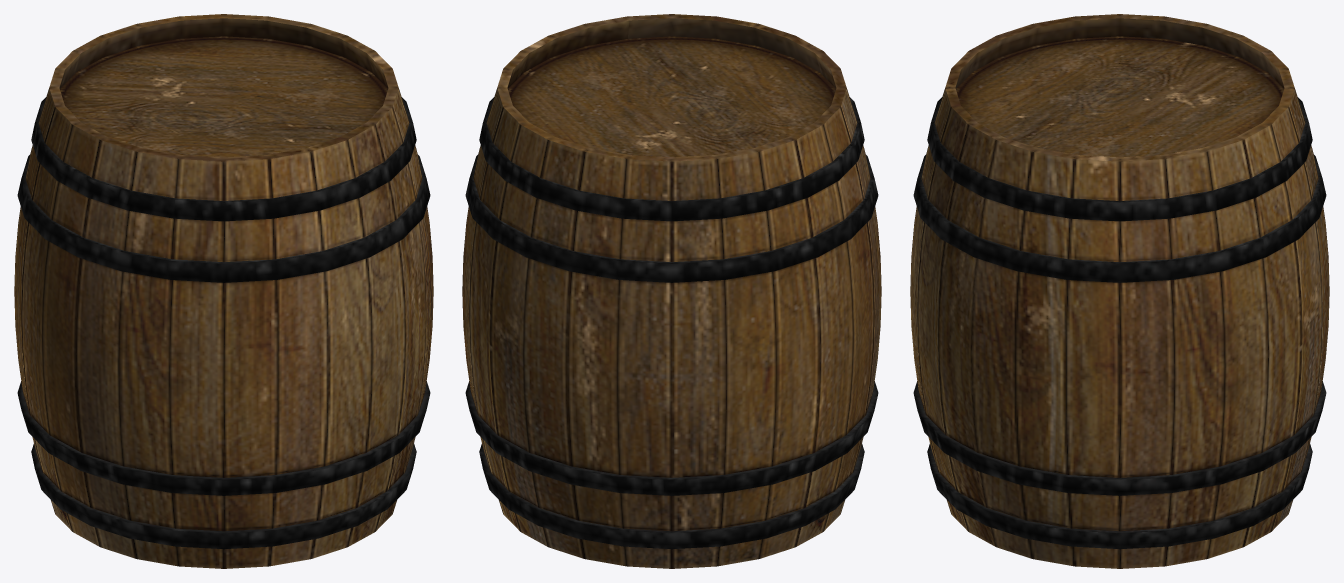
The model's file is barrel.obj.
3 views of the same model, side by side, from view 1: azimuth 30°, elevation 25°; view 2: azimuth 150°, elevation 25°; view 3: azimuth 270°, elevation 25° (orthographic).
Parts seen in each view (by area): view 1: barrel_low; view 2: barrel_low; view 3: barrel_low.
Boxes of the visible parts, x1=… form: barrel_low: x1=14, y1=14, x2=433, y2=568; barrel_low: x1=462, y1=14, x2=881, y2=568; barrel_low: x1=910, y1=14, x2=1329, y2=568.
Bounding box in the file's own units: 1.87 × 2 × 1.87.
